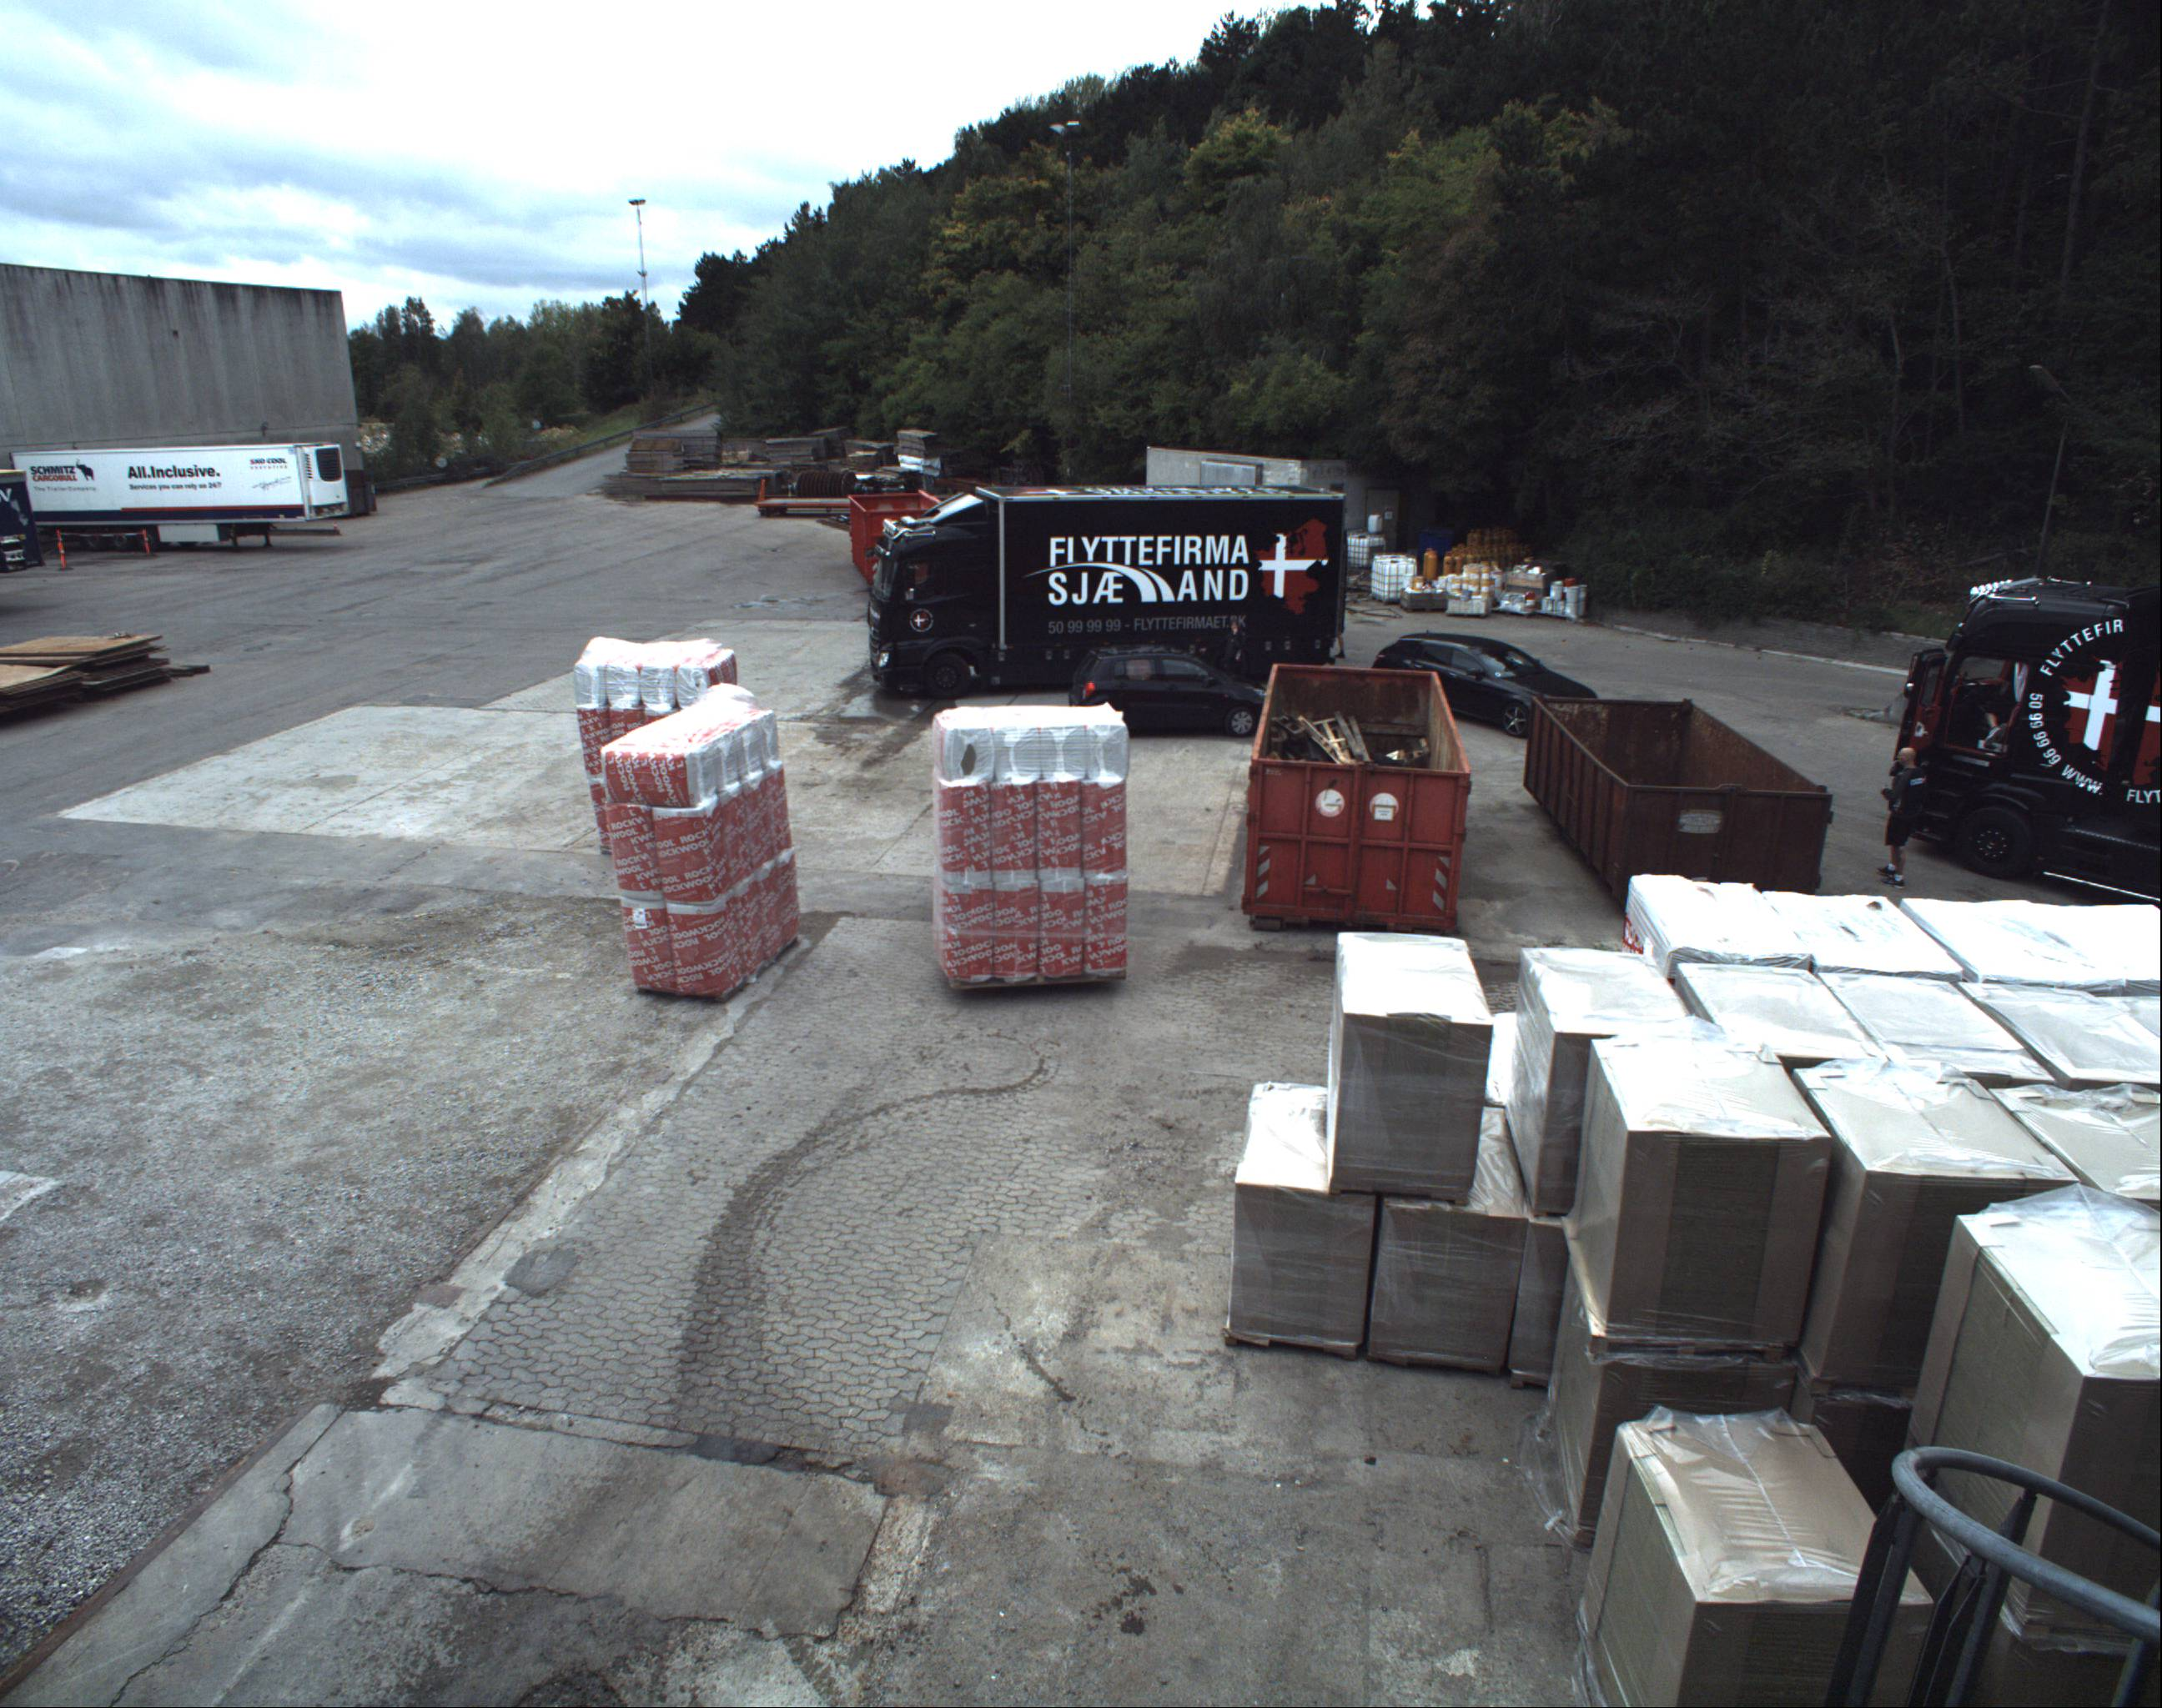rockwool_batts: (598, 688, 800, 990), (923, 695, 1132, 985), (562, 630, 730, 786)
